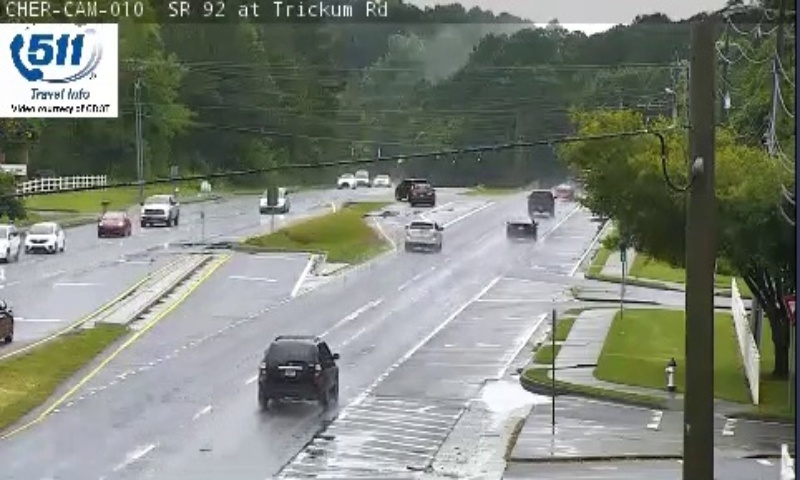car: (258, 335, 338, 398), (404, 220, 441, 247), (506, 216, 536, 243), (527, 191, 554, 214)
